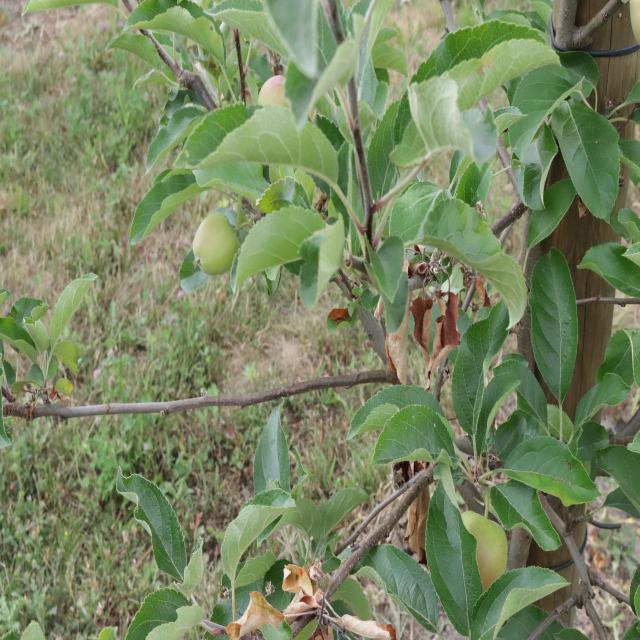-FireBlight-: (224, 549, 404, 640), (379, 280, 468, 397), (400, 482, 428, 561)
